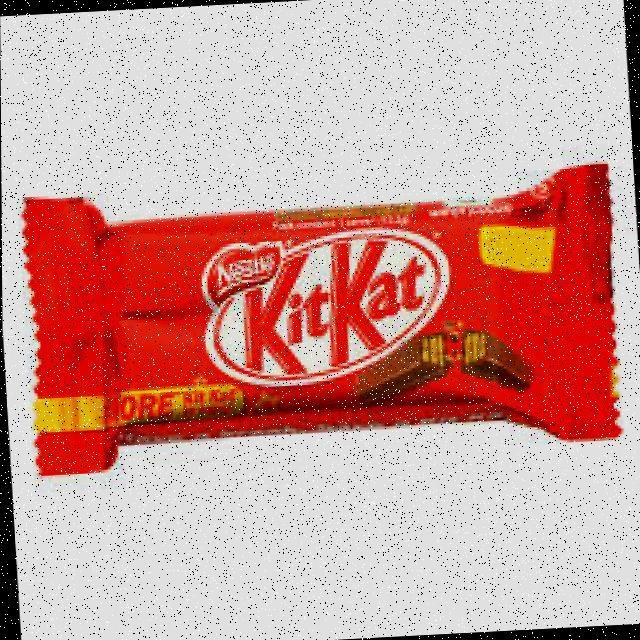kitkat_chocolate: (26, 194, 640, 503)
